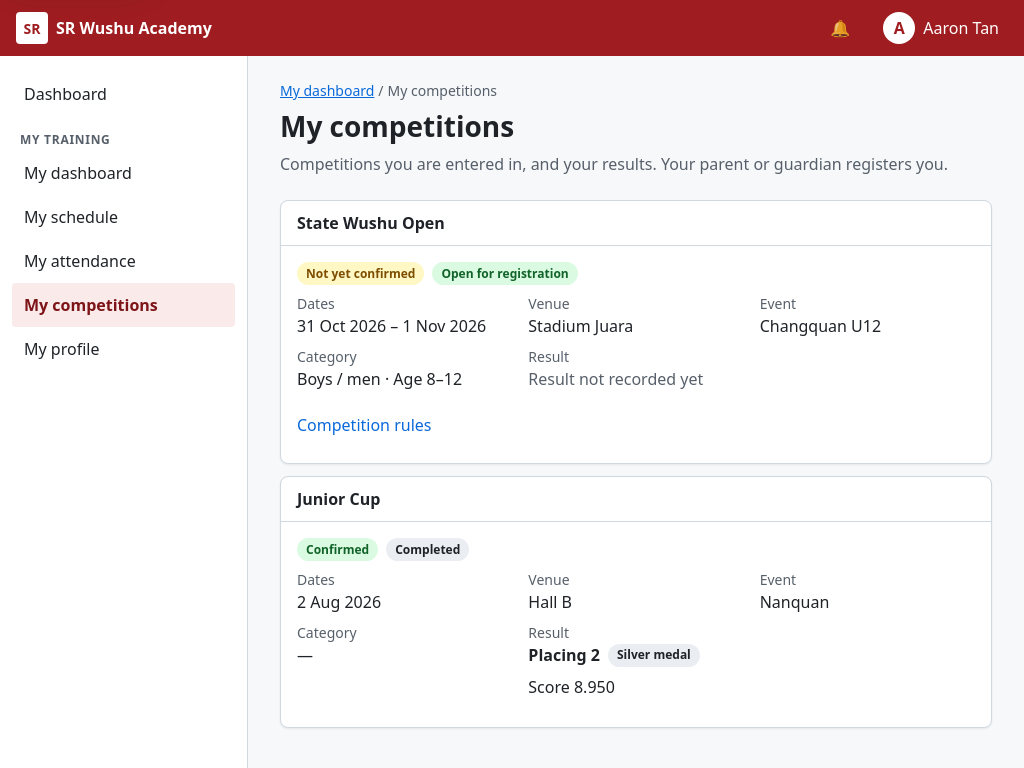
my competitions › shows entries and results, rules as plain text, and nothing about fees, payment or answers
The image size is (1024, 768).
Expected: the heading "My competitions" is shown, [280,109,514,144]
Expected: the element "State Wushu Open" shows "Changquan U12", [760,315,881,337]
What coordinates should you click on to do the following:
click the heading "Competition rules"
I would click on:
 (364, 425)
Its box is [297,414,432,436].
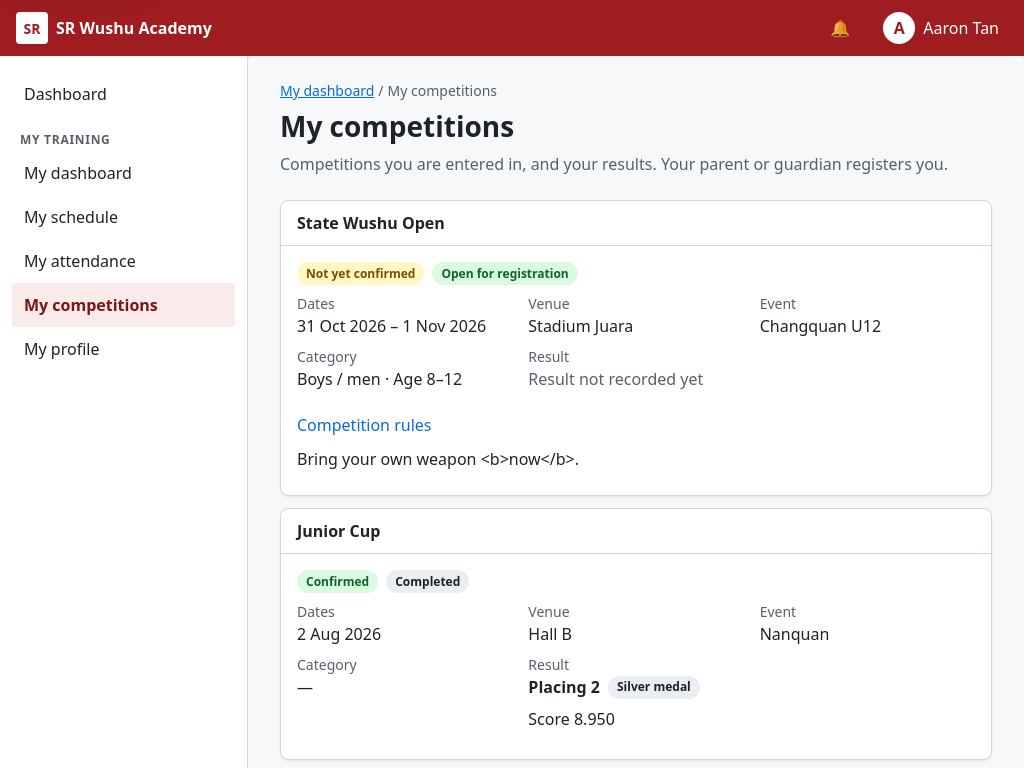
Expected: the element "Junior Cup" shows "Placing 2", [280,508,992,760]
Expected: the text "Bring your own weapon <b>now</b>." is shown, [297,448,579,470]
